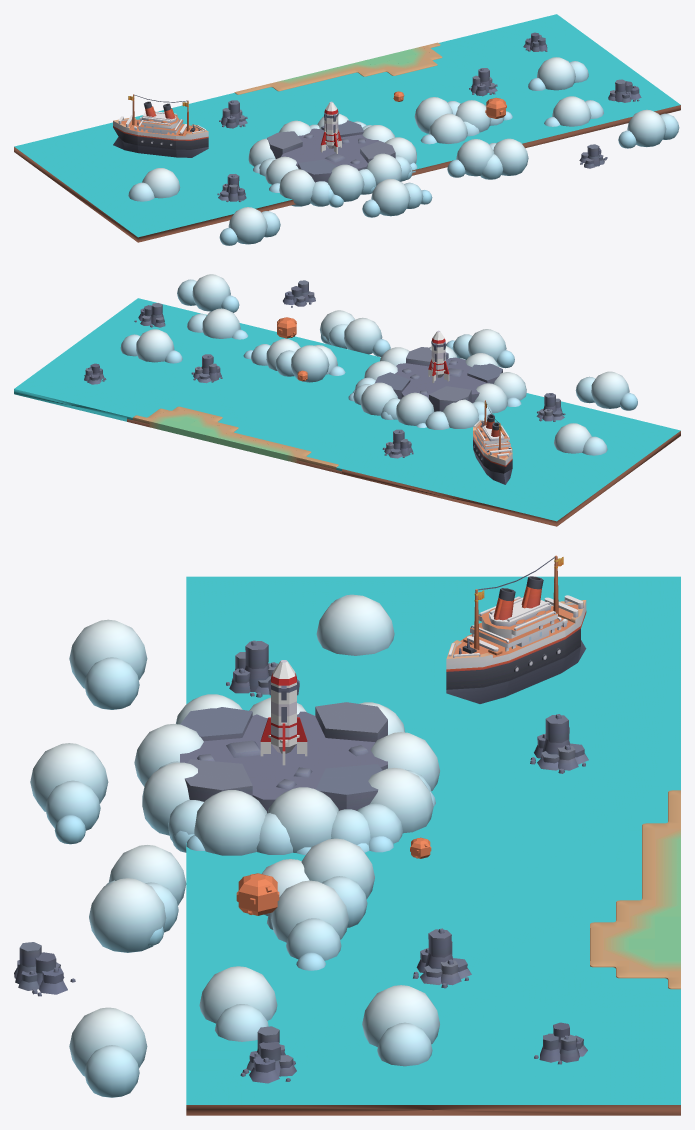
File: Skylands-transformed.glb
3 views of the same model, one above another, from view 1: azimuth 30°, elevation 25°; view 2: azimuth 150°, elevation 25°; view 3: azimuth 270°, elevation 25° (orthographic). The views are drawn at different scales.
Visible parts, largest first — view 1: rocket_topA2, Cloud_02, rocks, ship-ocean-liner-small, rocks-b, square_sandToPlain10; view 2: rocket_topA2, Cloud_02, rocks, rocks-b, ship-ocean-liner-small, square_sandToPlain10; view 3: rocket_topA2, Cloud_02, rocks, ship-ocean-liner-small, rocks-b, square_sandToPlain10.
Part boxes in pixels (bbox=[...]): rocket_topA2: bbox=[14, 14, 680, 242]; Cloud_02: bbox=[128, 57, 679, 245]; rocks: bbox=[267, 120, 395, 182]; ship-ocean-liner-small: bbox=[113, 94, 208, 157]; rocks-b: bbox=[217, 32, 641, 201]; square_sandToPlain10: bbox=[274, 46, 433, 87]; rocket_topA2: bbox=[14, 298, 680, 526]; Cloud_02: bbox=[120, 274, 637, 455]; rocks: bbox=[375, 347, 502, 411]; rocks-b: bbox=[84, 280, 565, 458]; ship-ocean-liner-small: bbox=[473, 400, 512, 484]; square_sandToPlain10: bbox=[149, 410, 302, 462]; rocket_topA2: bbox=[186, 576, 680, 1115]; Cloud_02: bbox=[30, 594, 439, 1097]; rocks: bbox=[180, 702, 387, 813]; ship-ocean-liner-small: bbox=[446, 555, 586, 703]; rocks-b: bbox=[14, 640, 588, 1083]; square_sandToPlain10: bbox=[603, 828, 680, 971].
Size of the model in its own units: 96 by 12.44 by 51.25.
6 materials, 6 textured.
